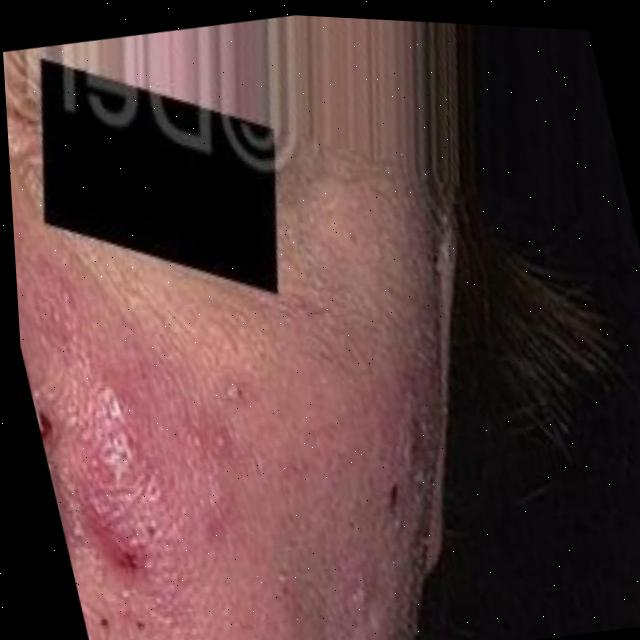Rosacea: (27, 323, 241, 591)
